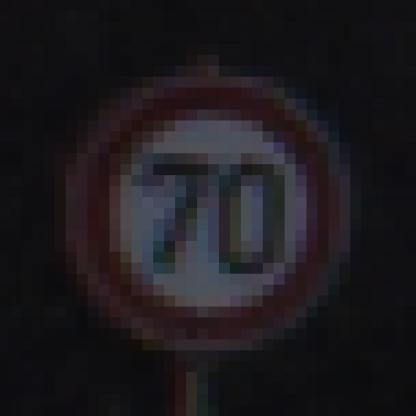Speed Limit 70: (79, 85, 345, 343)
